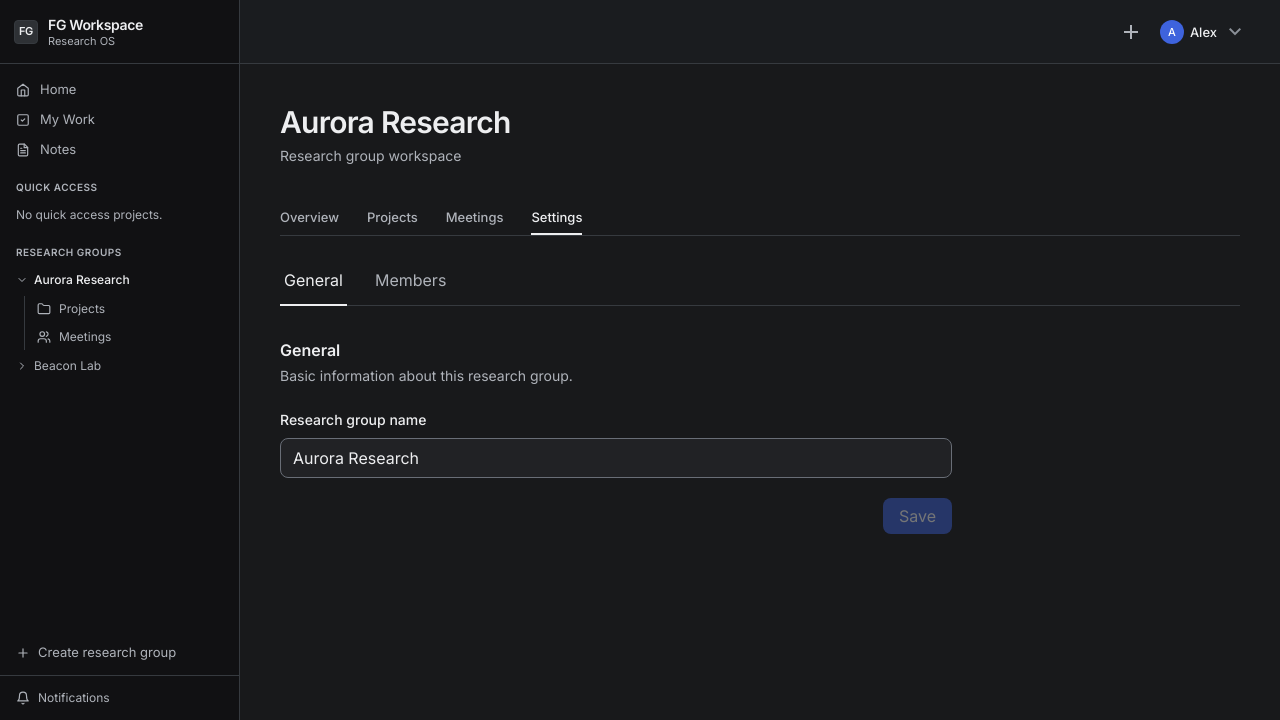
Test: Research Group workspace — shared layout + nested routes › updates the shared header group name after a successful rename without reload
This screenshot has width=1280, height=720.
Replace the text in the field labelled "Research group name" with "Aurora Research Two" at {"x": 616, "y": 458}, box [280,438,952,478]
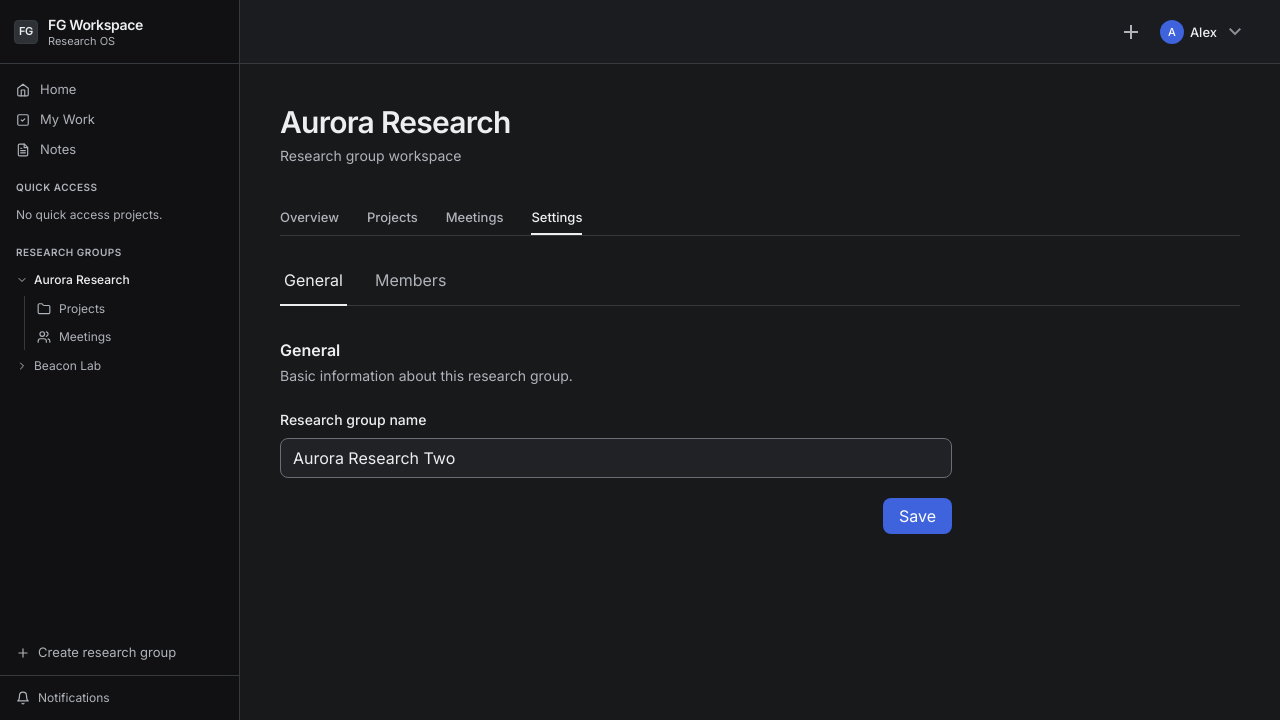
Click the button "Save" at {"x": 918, "y": 516}, box [883,498,952,534]
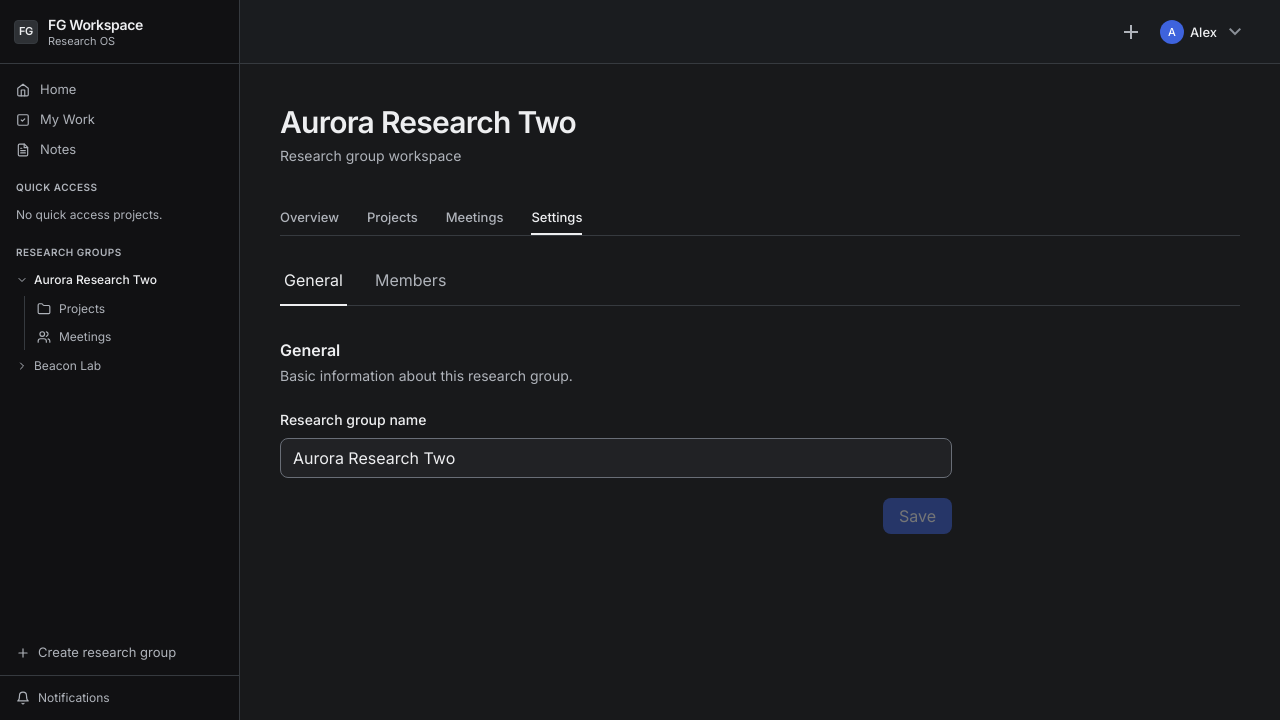
Expected: the heading "Aurora Research Two" is shown, [280,104,576,140]
